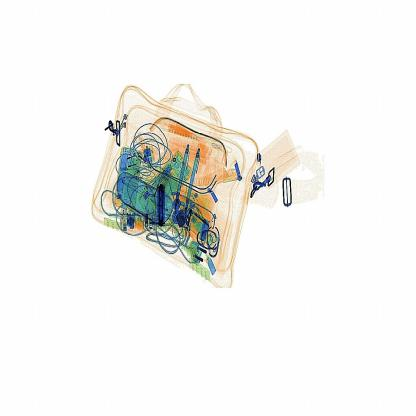scissors: (156, 181, 170, 228)
